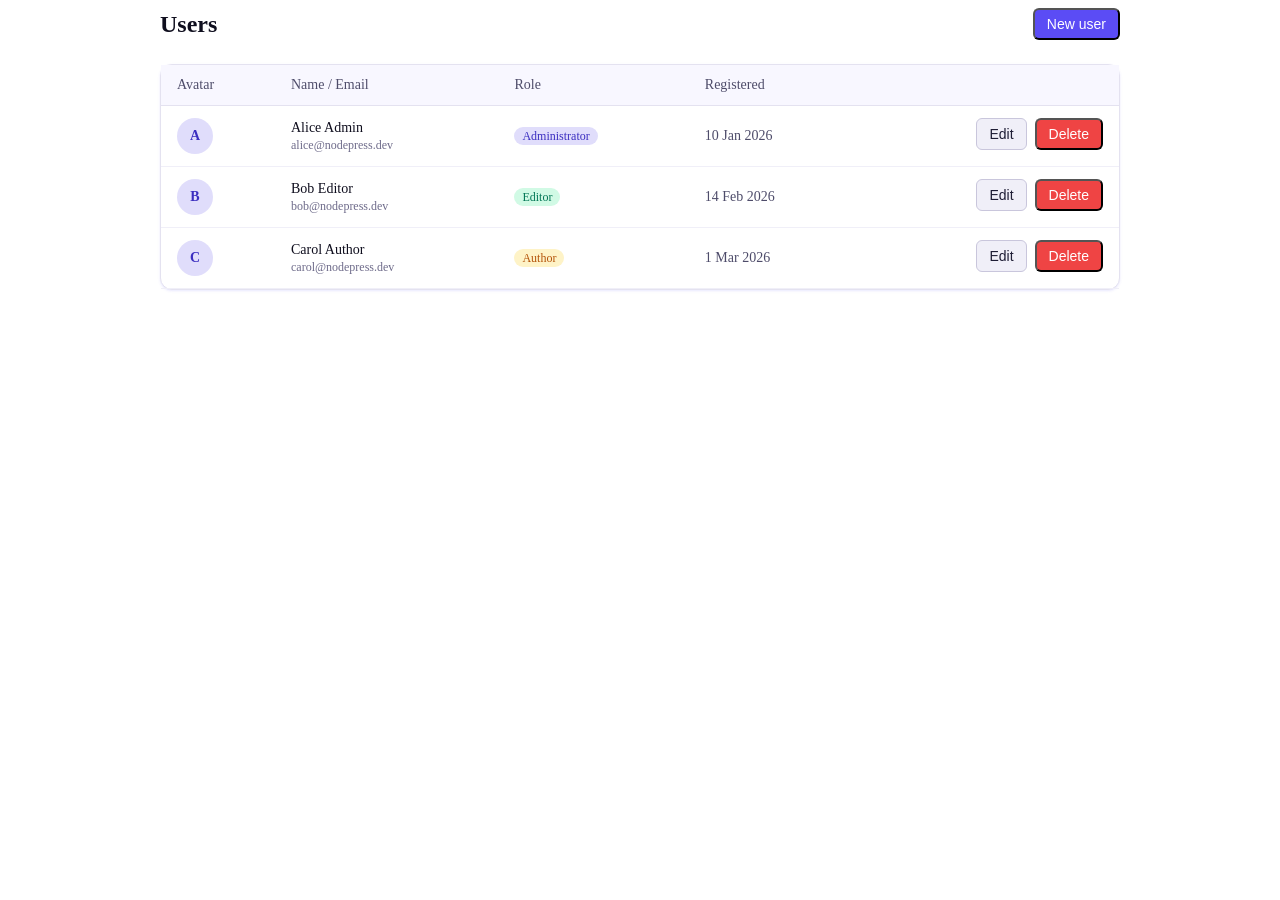
Test: UsersPage › opens edit user modal and saves updates
The image size is (1280, 900).
Expected: the text "Alice Admin" is shown, [291, 120, 363, 134]
Click the button with aria-label "edit user alice admin" at (1001, 134), box [976, 118, 1026, 150]
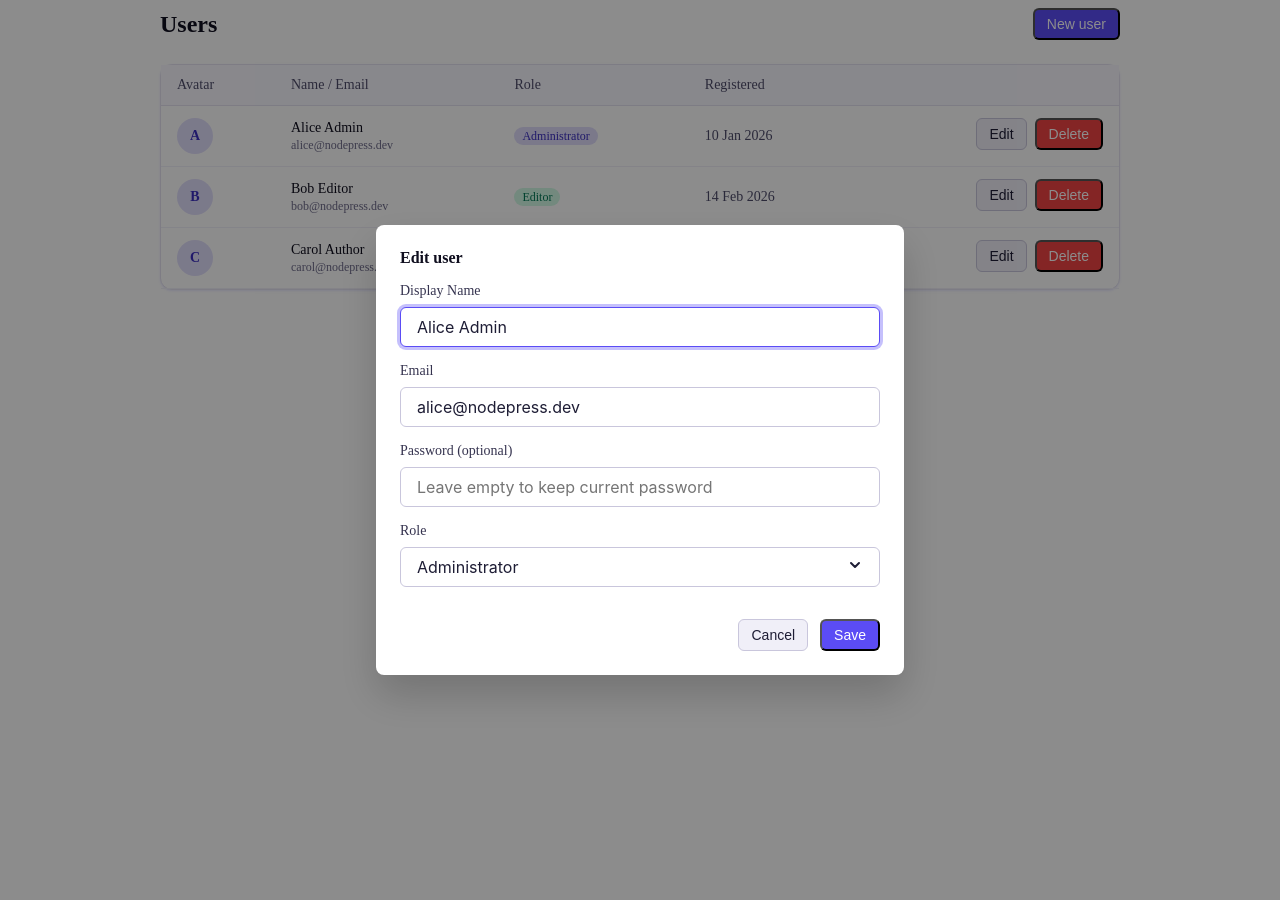
Expected: the dialog is shown, [376, 225, 904, 675]
Expected: the heading "Edit user" is shown, [400, 249, 463, 266]
Save without changes
Click the button "Save" at (850, 635), box [820, 619, 880, 651]
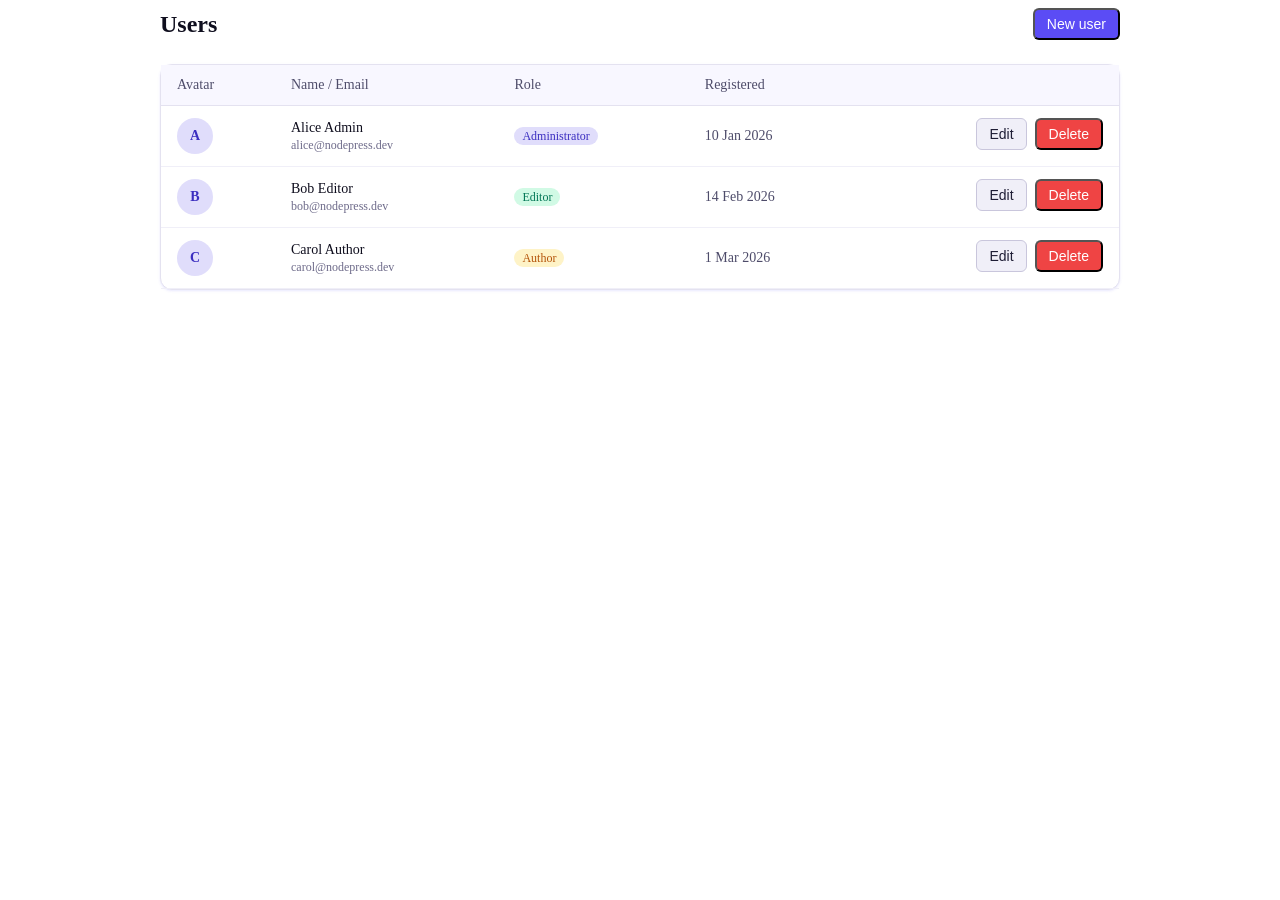
Expected: the dialog is gone
